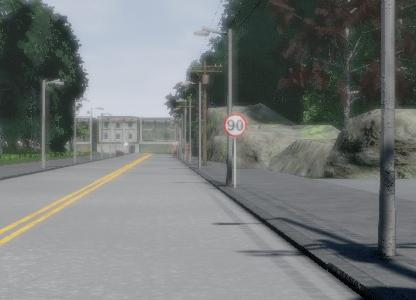Speed_60: (295, 63, 349, 116)
